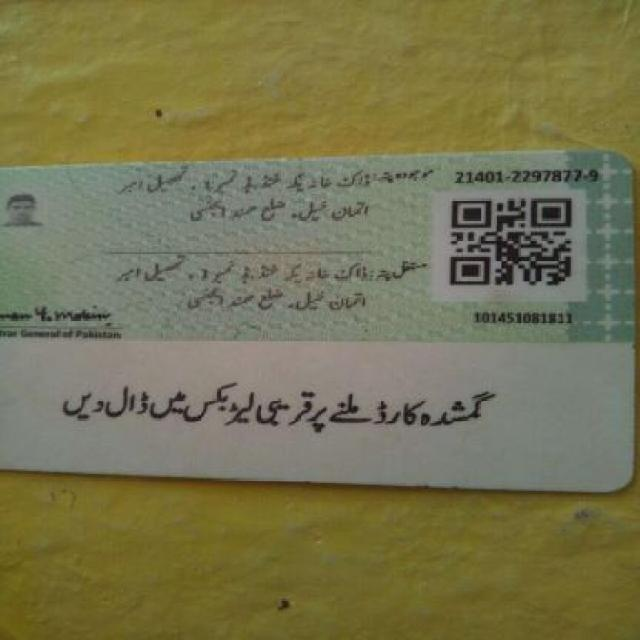Back: (4, 147, 636, 498)
